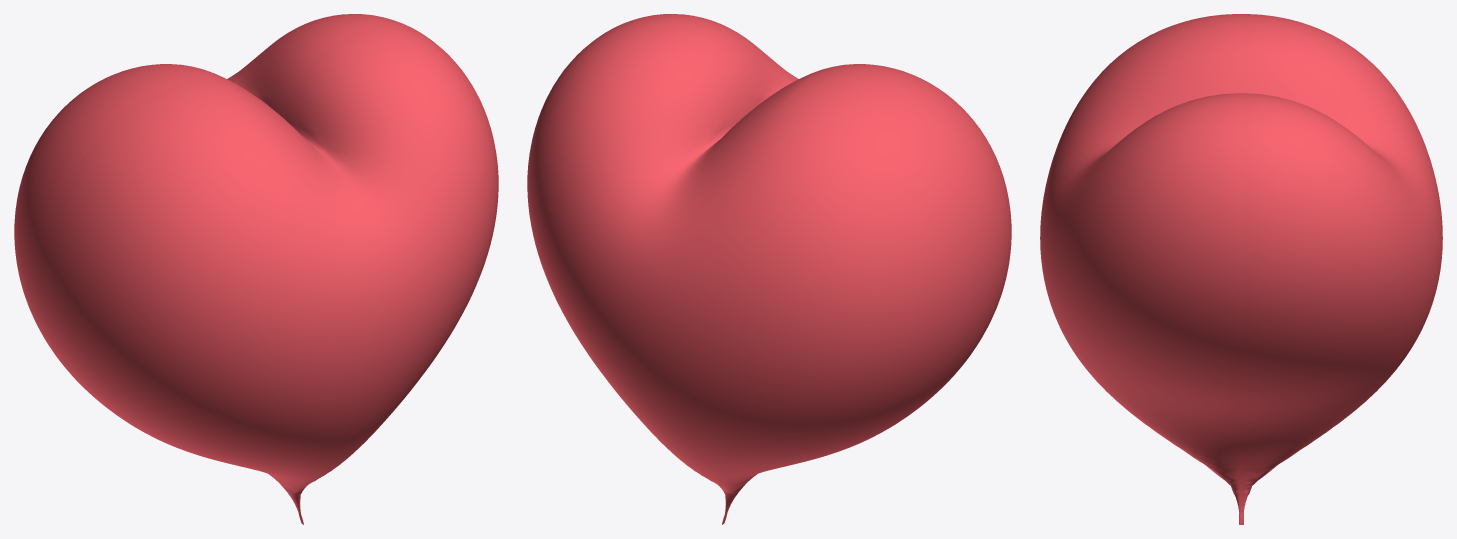
The model's file is oetc2026Asset 6heart-red.gltf.
3 views of the same model, side by side, from view 1: azimuth 30°, elevation 25°; view 2: azimuth 150°, elevation 25°; view 3: azimuth 270°, elevation 25° (orthographic). The views are drawn at different scales.
Bounding box in the file's own units: 0.4616 × 0.4997 × 0.4039.
